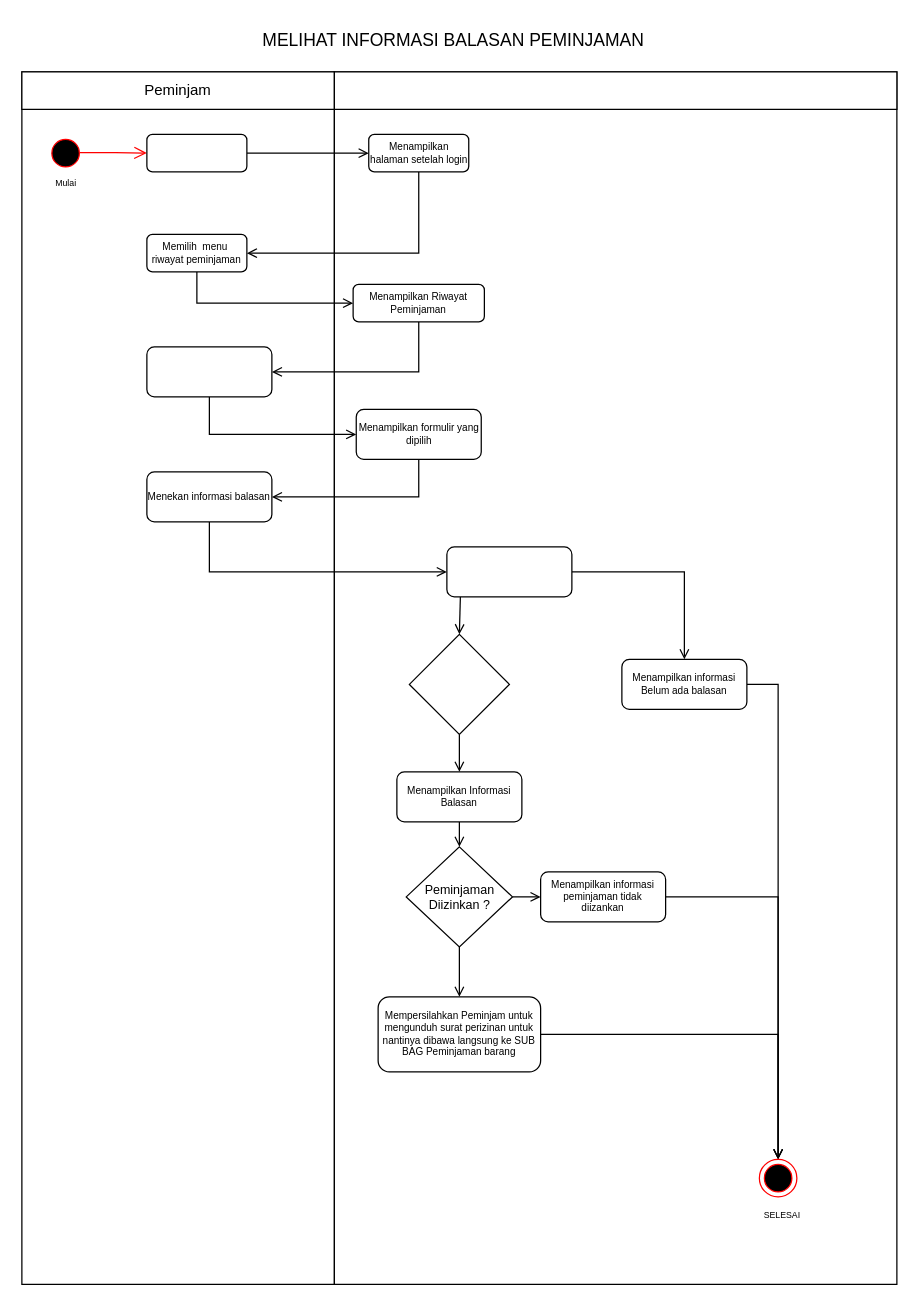
The diagram is 919 pixels wide and 1306 high, and some of its shapes have lost their labels. Each missing label, with the box of its shape:
Memilih Salah Satu Formulir yang ada: (146, 346, 272, 397)
Memroses Informasi Balasan: (446, 546, 572, 597)
Peminjam sudah Login: (146, 133, 247, 172)
Sistem: (333, 71, 897, 109)
Sudah dibalas?: (408, 633, 509, 734)
